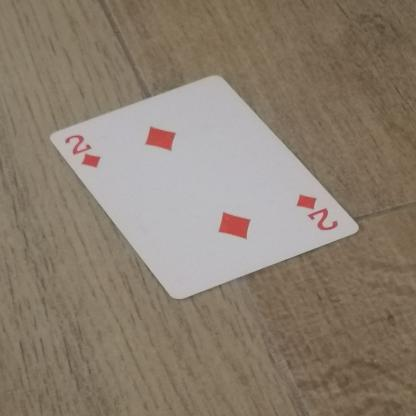2D: (280, 189, 342, 238), (64, 126, 108, 181)
